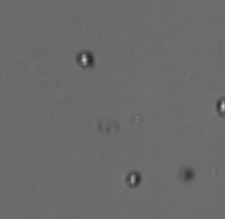Living Cell: (125, 169, 141, 188), (76, 51, 91, 67)
